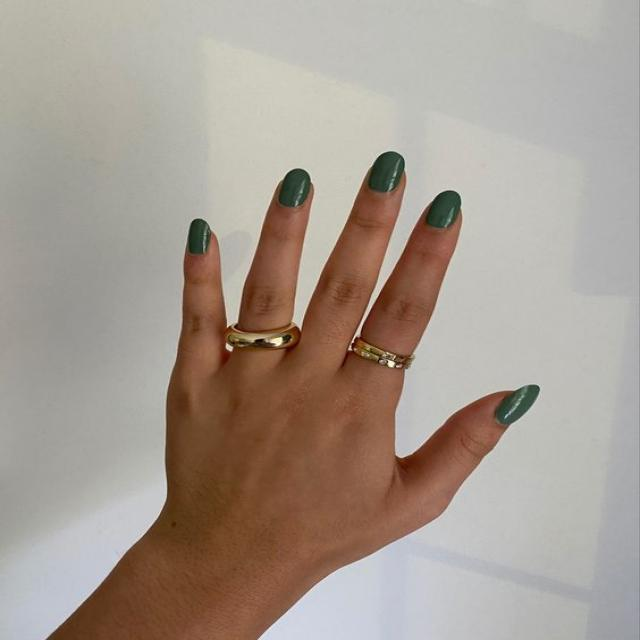Fingernail: (495, 384, 540, 425), (368, 150, 405, 193), (426, 190, 461, 228), (278, 168, 311, 207), (187, 218, 211, 257)
